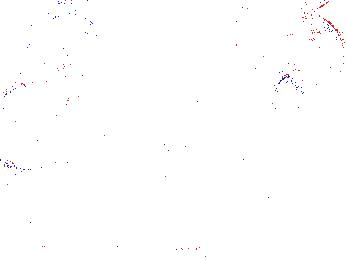moon jellyfish: (26, 13, 107, 101), (158, 125, 241, 206), (1, 81, 75, 170), (272, 14, 344, 95), (226, 4, 326, 46)
